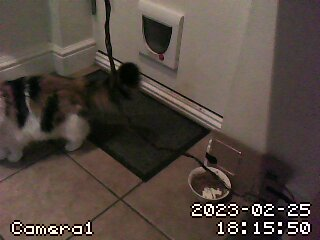clara: (3, 64, 155, 173)
